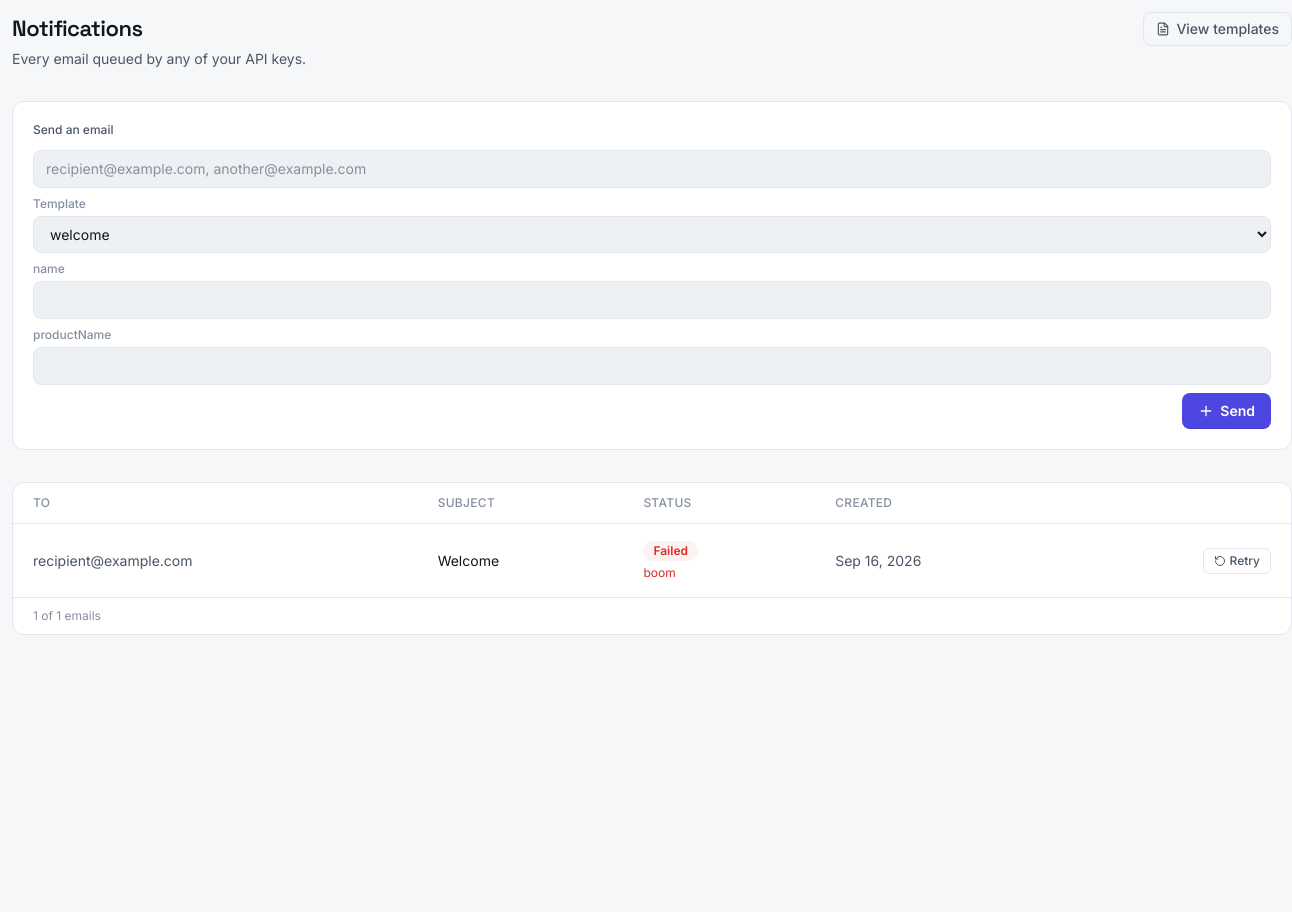
Test: NotificationsPage › shows an error toast when retrying fails
The image size is (1292, 912).
Click the button "Retry". click: (1237, 560)
box: [1202,548,1271,574]
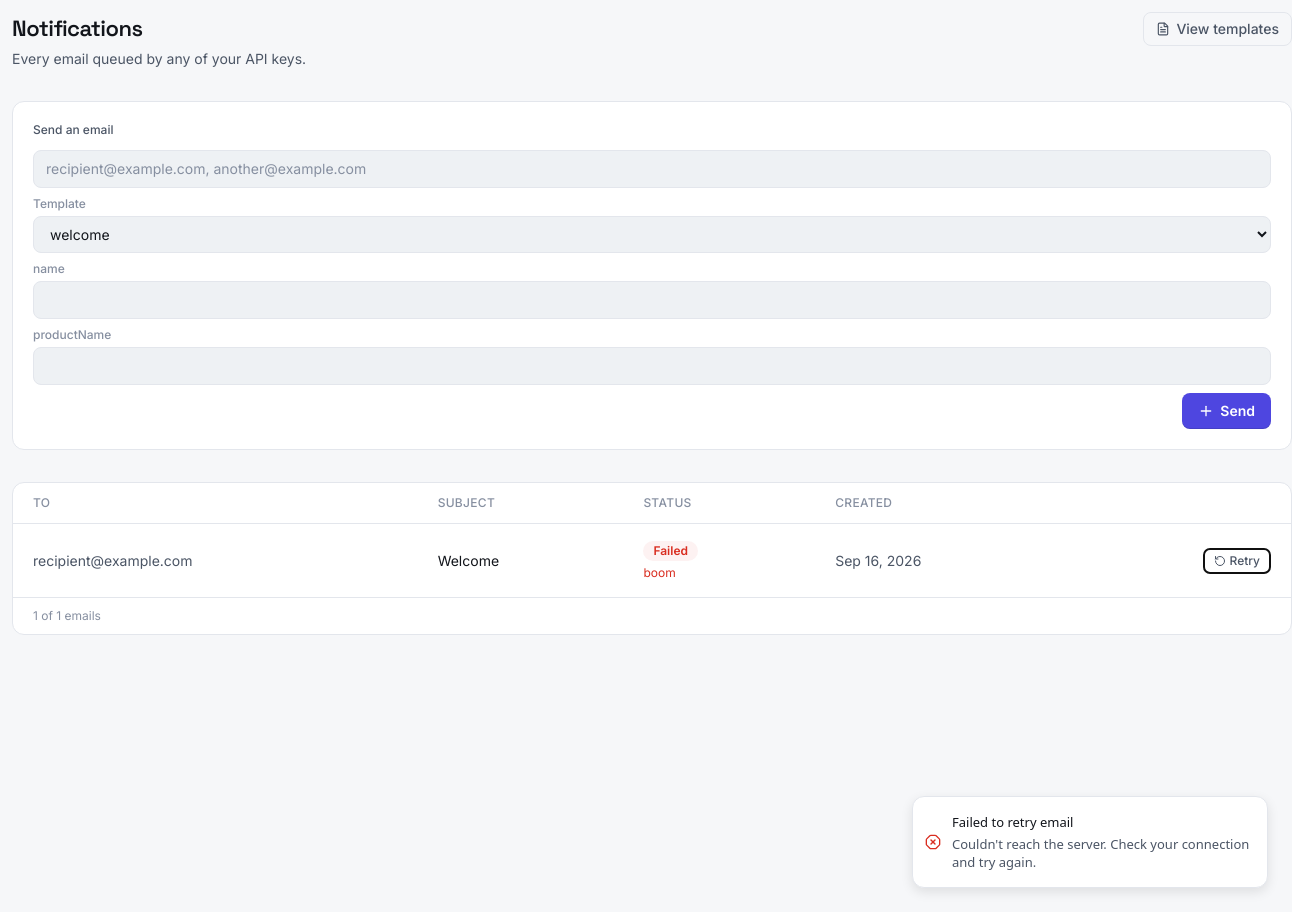
Expected: the text "Failed to retry email" is shown, [952,813,1073,831]
